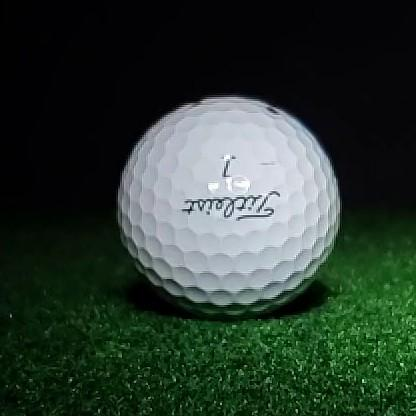golfball: (119, 99, 340, 320)
